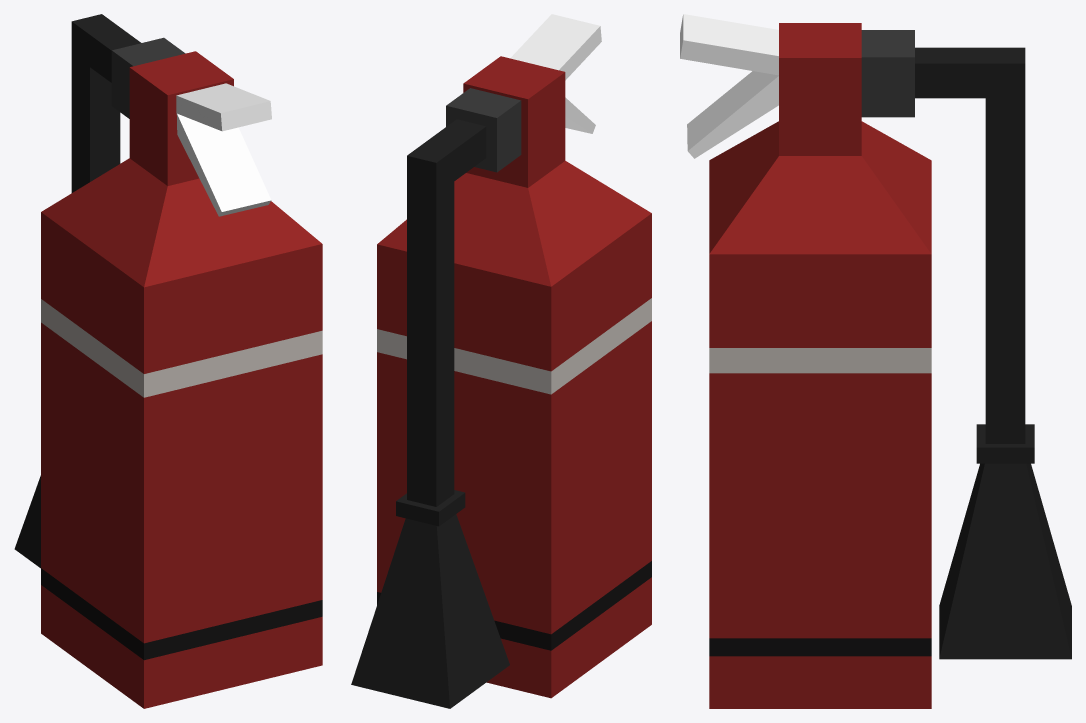
The picture shows the model from 3 angles, left to right: view 1: azimuth 30°, elevation 25°; view 2: azimuth 150°, elevation 25°; view 3: azimuth 270°, elevation 25°; orthographic projection. The views are drawn at different scales.
Visible parts, largest first — view 1: MieHuoQi; view 2: MieHuoQi; view 3: MieHuoQi.
Part boxes in pixels (x1,y1,x2,y2): MieHuoQi: [14, 14, 322, 708]; MieHuoQi: [351, 14, 651, 708]; MieHuoQi: [680, 14, 1071, 708].
Size of the model in its own units: 12.14 by 38.27 by 21.39.
